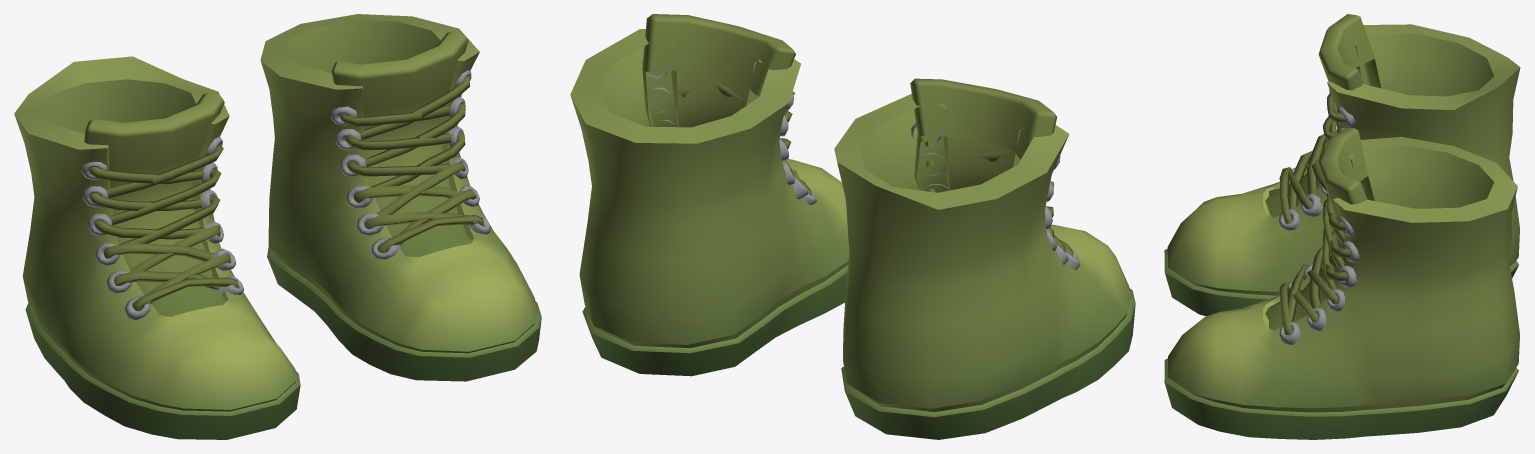
The model's file is Costume_11_06.glb.
3 views of the same model, side by side, from view 1: azimuth 30°, elevation 25°; view 2: azimuth 150°, elevation 25°; view 3: azimuth 270°, elevation 25° (orthographic). The views are drawn at different scales.
Visible parts, largest first — view 1: Costume_11_06; view 2: Costume_11_06; view 3: Costume_11_06.
Boxes of the visible parts, box(x1,y1,x2,y2) form: Costume_11_06: box(14, 14, 541, 439); Costume_11_06: box(570, 14, 1135, 439); Costume_11_06: box(1164, 14, 1520, 439).
Bounding box in the file's own units: 0.2438 × 0.1405 × 0.1849.
Materials: 1 (1 with a texture image).
